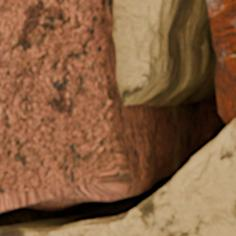brick: (0, 0, 137, 211), (208, 0, 235, 114)
crack: (0, 0, 235, 235)
